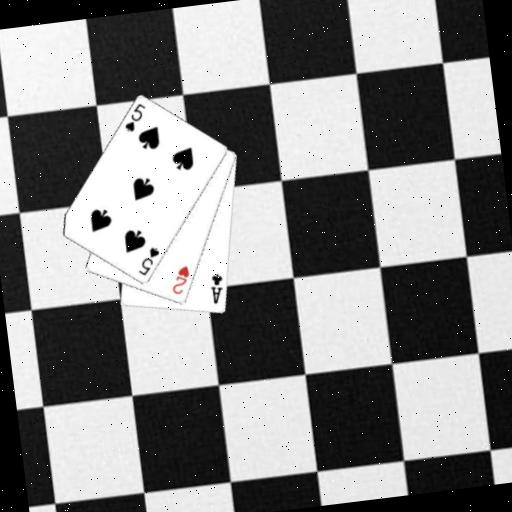2H: (167, 262, 194, 297)
5S: (133, 244, 164, 279), (119, 100, 150, 135)
AC: (207, 270, 228, 306)
